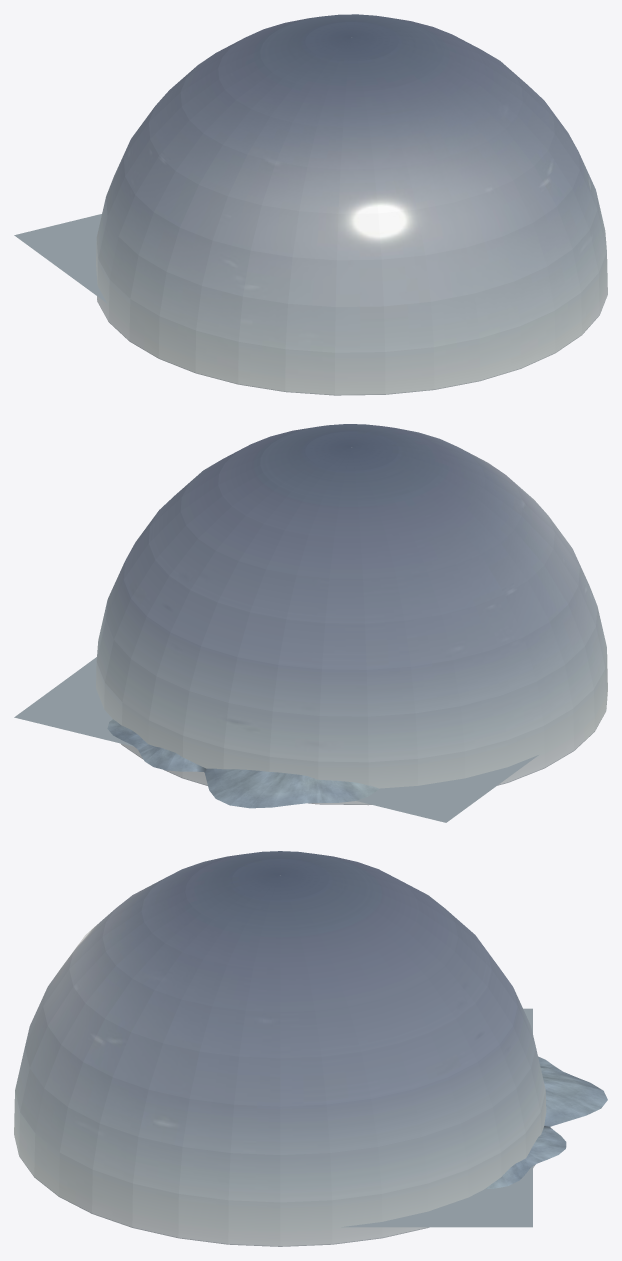
Rendered from lugar-seattle-ciudad.glb.
3 renders of one model, top to bottom at view 1: azimuth 30°, elevation 25°; view 2: azimuth 150°, elevation 25°; view 3: azimuth 270°, elevation 25°, orthographic. The views are drawn at different scales.
Parts seen in each view (by area): view 1: planoC; view 2: planoC, vertT; view 3: planoC, vertT.
Part boxes in pixels (x1,y1,x2,y2): planoC: (14, 14, 607, 395); planoC: (14, 424, 607, 822); vertT: (107, 719, 378, 808); planoC: (14, 851, 546, 1246); vertT: (485, 1056, 607, 1188).
Size of the model in its own units: 6584 by 3530 by 7340.
Materials: 16 (12 with a texture image).
